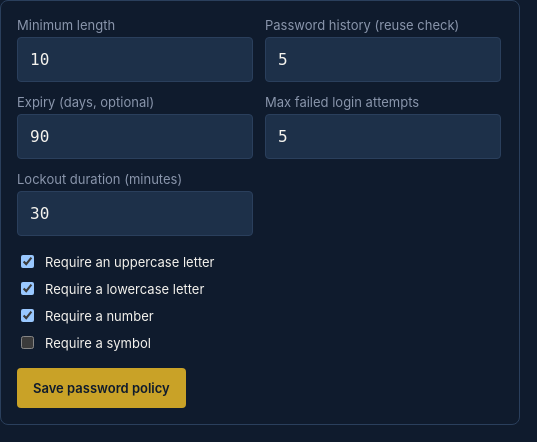
Scenario: PasswordPolicyForm › shows the action-returned error message on failure
Click the button "Save password policy" at (101, 388), box [17,368,186,408]
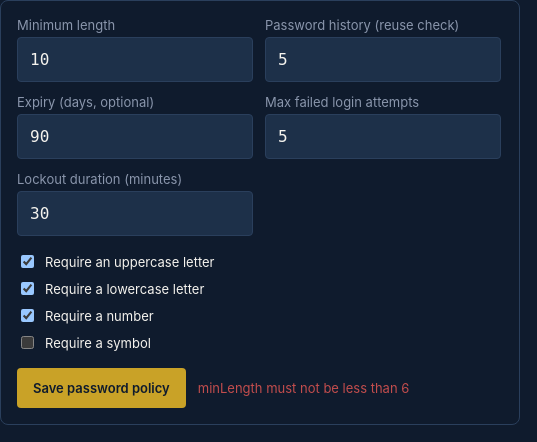
Expected: the text "minLength must not be less than 6" is shown, [198,380,409,396]
